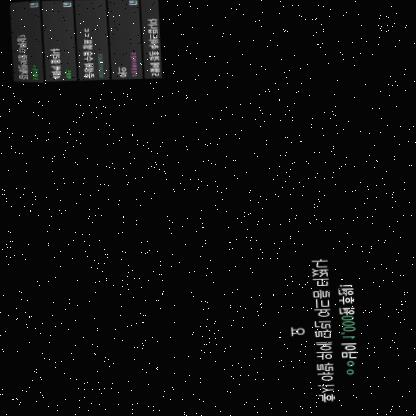donation: (282, 259, 354, 405)
